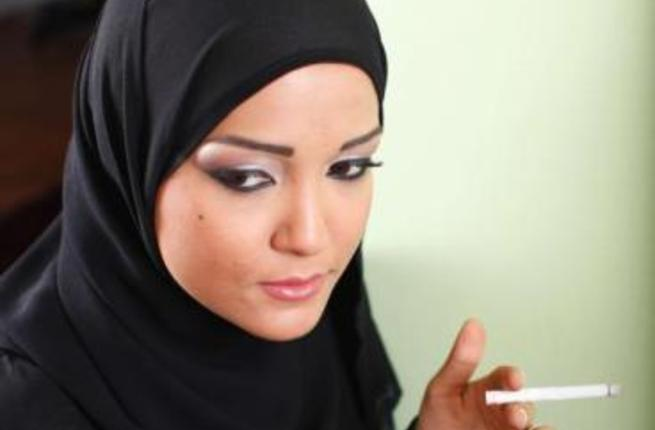cigarette: (482, 386, 620, 403)
